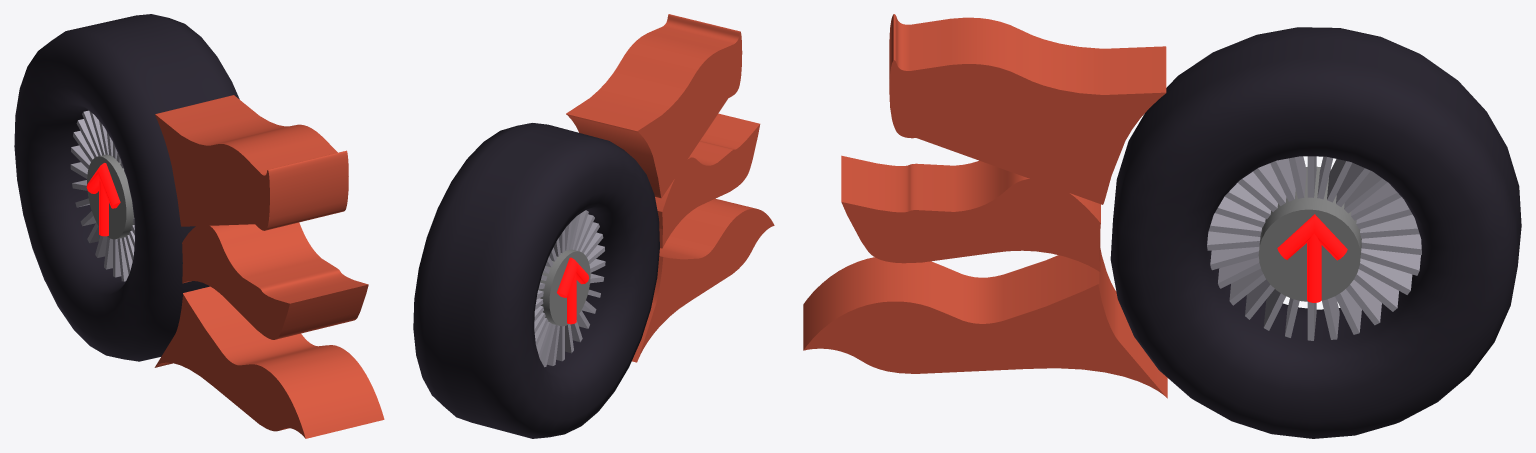
Rendered from Powerup_Speed_final.fbx.
3 views of the same model, side by side, from view 1: azimuth 30°, elevation 25°; view 2: azimuth 150°, elevation 25°; view 3: azimuth 270°, elevation 25° (orthographic). The views are drawn at different scales.
Parts seen in each view (by area): view 1: PowerupSpeed; view 2: PowerupSpeed; view 3: PowerupSpeed.
Part boxes in pixels (x1,y1,x2,y2): PowerupSpeed: (14, 14, 384, 438); PowerupSpeed: (413, 14, 774, 438); PowerupSpeed: (803, 14, 1521, 438).
Size of the model in its own units: 32.18 by 77.03 by 134.
